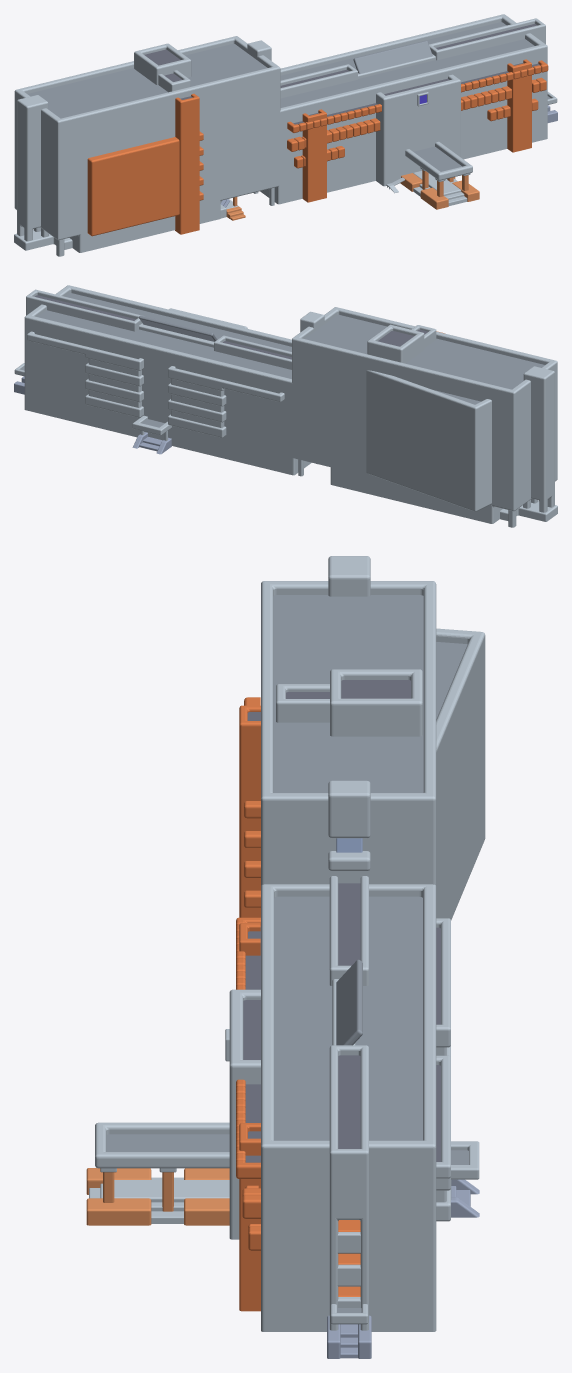
Rendered from aiu-building2.glb.
3 renders of one model, top to bottom at view 1: azimuth 30°, elevation 25°; view 2: azimuth 150°, elevation 25°; view 3: azimuth 270°, elevation 25°, orthographic. The views are drawn at different scales.
Parts seen in each view (by area): view 1: Cube.752, Cube.1116, Cube.058, Cube.042, Cube.057, Cube.106, Cube.105, Cube.043, Cube.114, Cube.052, Cube.059, Cube.224 (+11 smaller); view 2: Cube.752, Cube.1116, Cube.339, Cube.057, Cube.106, Cube.105, Cube.059, Cube.104, Cube.244, Cube.1099, Cube.300, Cube.224 (+17 smaller); view 3: Cube.1116, Cube.106, Cube.057, Cube.752, Cube.339, Cube.059, Cube.104, Cube.308, Cube.043, Cube.042, Cube.052, Cube.064 (+15 smaller).
Boxes of the visible parts, x1,y1,x2,y2 form: Cube.752: [14, 36, 280, 252]; Cube.1116: [260, 14, 547, 204]; Cube.058: [87, 137, 179, 236]; Cube.042: [376, 74, 460, 186]; Cube.057: [27, 43, 267, 118]; Cube.106: [280, 22, 534, 107]; Cube.105: [17, 95, 48, 241]; Cube.043: [175, 93, 199, 234]; Cube.114: [302, 109, 326, 202]; Cube.052: [507, 59, 531, 152]; Cube.059: [429, 18, 545, 60]; Cube.224: [353, 41, 432, 73]; Cube.752: [292, 307, 557, 523]; Cube.1116: [24, 285, 311, 475]; Cube.339: [366, 370, 491, 511]; Cube.057: [305, 314, 544, 389]; Cube.106: [38, 293, 291, 378]; Cube.105: [523, 366, 554, 512]; Cube.059: [26, 289, 142, 331]; Cube.104: [367, 324, 424, 363]; Cube.244: [214, 335, 291, 369]; Cube.1099: [27, 331, 143, 370]; Cube.300: [168, 366, 284, 402]; Cube.224: [139, 315, 217, 341]; Cube.1116: [261, 884, 436, 1331]; Cube.106: [274, 896, 422, 1140]; Cube.057: [273, 595, 423, 792]; Cube.752: [261, 581, 436, 885]; Cube.339: [436, 628, 485, 920]; Cube.059: [329, 1045, 368, 1330]; Cube.104: [330, 669, 422, 736]; Cube.308: [95, 1122, 229, 1168]; Cube.043: [239, 705, 260, 917]; Cube.042: [229, 989, 260, 1239]; Cube.052: [239, 1123, 260, 1311]; Cube.064: [328, 780, 370, 838].
Size of the model in its own units: 18.43 by 4.97 by 5.97.
